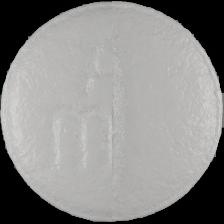67544-282: (0, 0, 224, 224)
